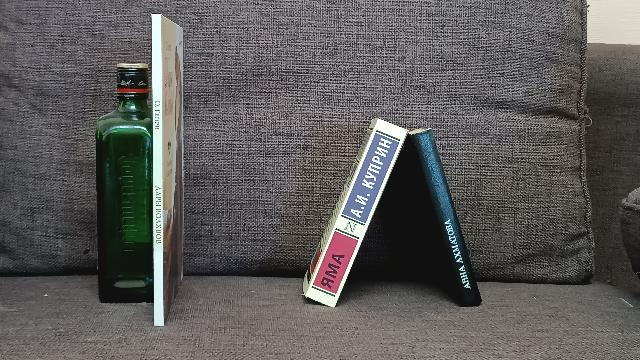book-s-spine: (306, 119, 408, 308), (412, 130, 482, 307), (152, 14, 164, 326)
